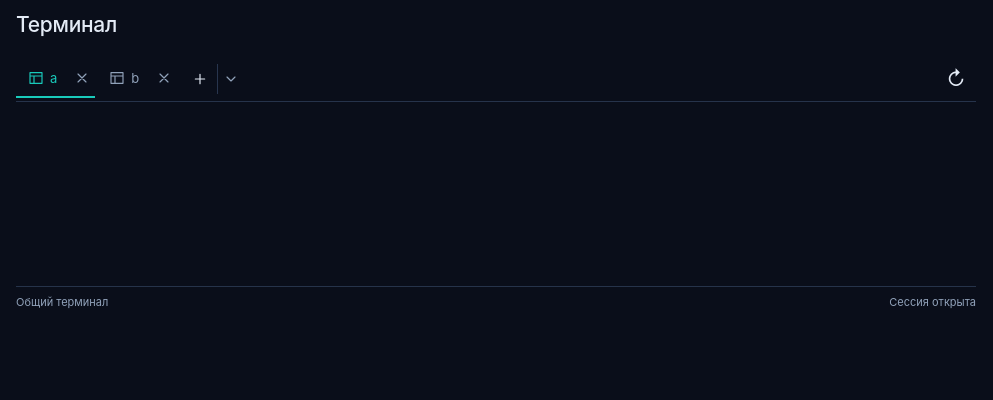
keeps a real close failure visible and ends loading: reject
The image size is (993, 400).
Click the button named "Закрыть терминал a" at (82, 78), box [69,60,95,96]
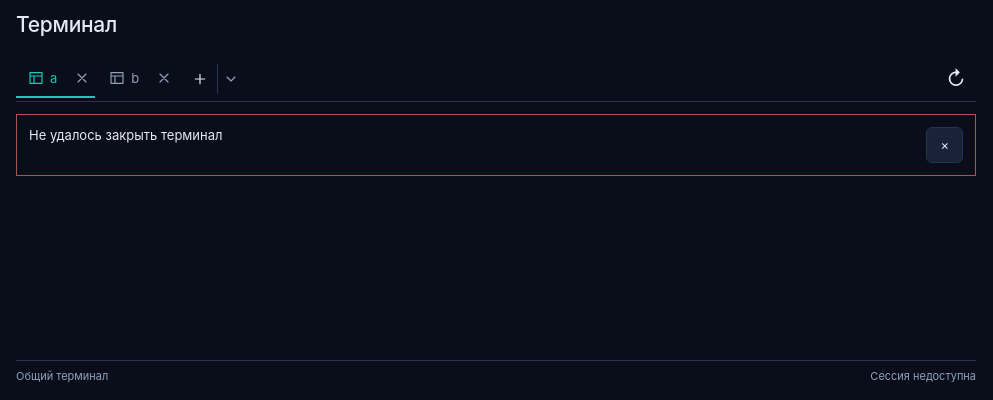
Expected: the tab named "a — Общий терминал" is shown, [16,60,69,96]
Result: the message "Не удалось закрыть терминал ×" is shown at [16,114,976,176]
